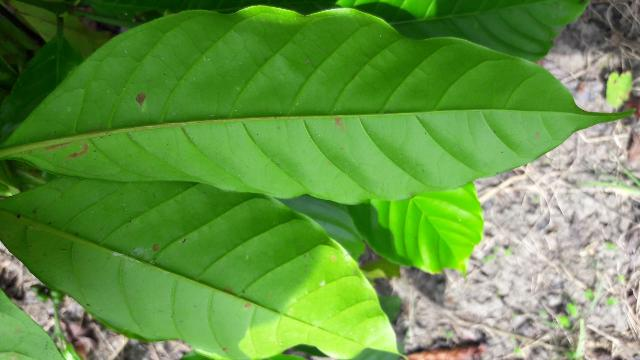red_spider_mite: (2, 7, 636, 203)
